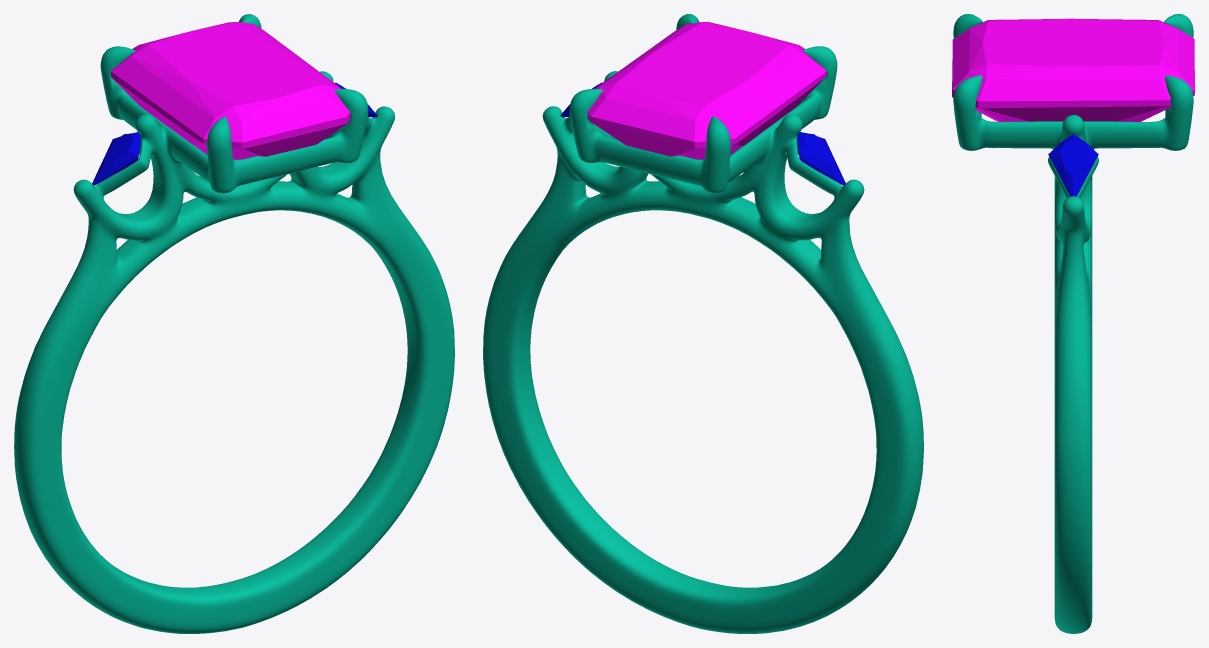
Rendered from BE1D5400_RA_200ct_RENDER.glb.
3 renders of one model, left to right at view 1: azimuth 30°, elevation 25°; view 2: azimuth 150°, elevation 25°; view 3: azimuth 270°, elevation 25°, orthographic.
Visible parts, largest first — view 1: Metal 01, CS_Diamond_Radiant, Diamond_Marquise_side; view 2: Metal 01, CS_Diamond_Radiant, Diamond_Marquise_side; view 3: Metal 01, CS_Diamond_Radiant, Diamond_Marquise_side.001.
Boxes of the visible parts, bbox=[...] form: Metal 01: bbox=[14, 14, 454, 633]; CS_Diamond_Radiant: bbox=[111, 22, 350, 159]; Diamond_Marquise_side: bbox=[92, 132, 140, 185]; Metal 01: bbox=[483, 14, 923, 633]; CS_Diamond_Radiant: bbox=[587, 22, 826, 159]; Diamond_Marquise_side: bbox=[797, 132, 845, 185]; Metal 01: bbox=[953, 14, 1193, 633]; CS_Diamond_Radiant: bbox=[952, 18, 1194, 121]; Diamond_Marquise_side.001: bbox=[1048, 134, 1098, 196].
Bounding box in the file's own units: 20.08 × 24.87 × 9.64.
